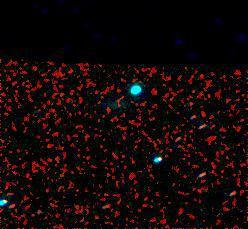star: (146, 143, 176, 173)
